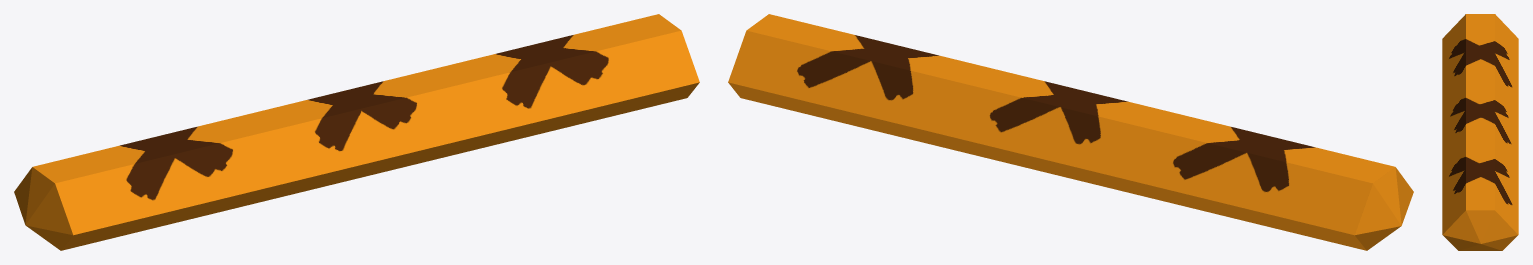
File: yoot-rhino-highlight.glb
3 views of the same model, side by side, from view 1: azimuth 30°, elevation 25°; view 2: azimuth 150°, elevation 25°; view 3: azimuth 270°, elevation 25° (orthographic). The views are drawn at different scales.
Visible parts, largest first — view 1: Cylinder.007; view 2: Cylinder.007; view 3: Cylinder.007.
Part boxes in pixels (x1=…): Cylinder.007: x1=14, y1=14, x2=699, y2=250; Cylinder.007: x1=728, y1=14, x2=1413, y2=250; Cylinder.007: x1=1442, y1=14, x2=1518, y2=250.
Size of the model in its own units: 10.36 by 0.9735 by 1.62.
1 material, 1 textured.
